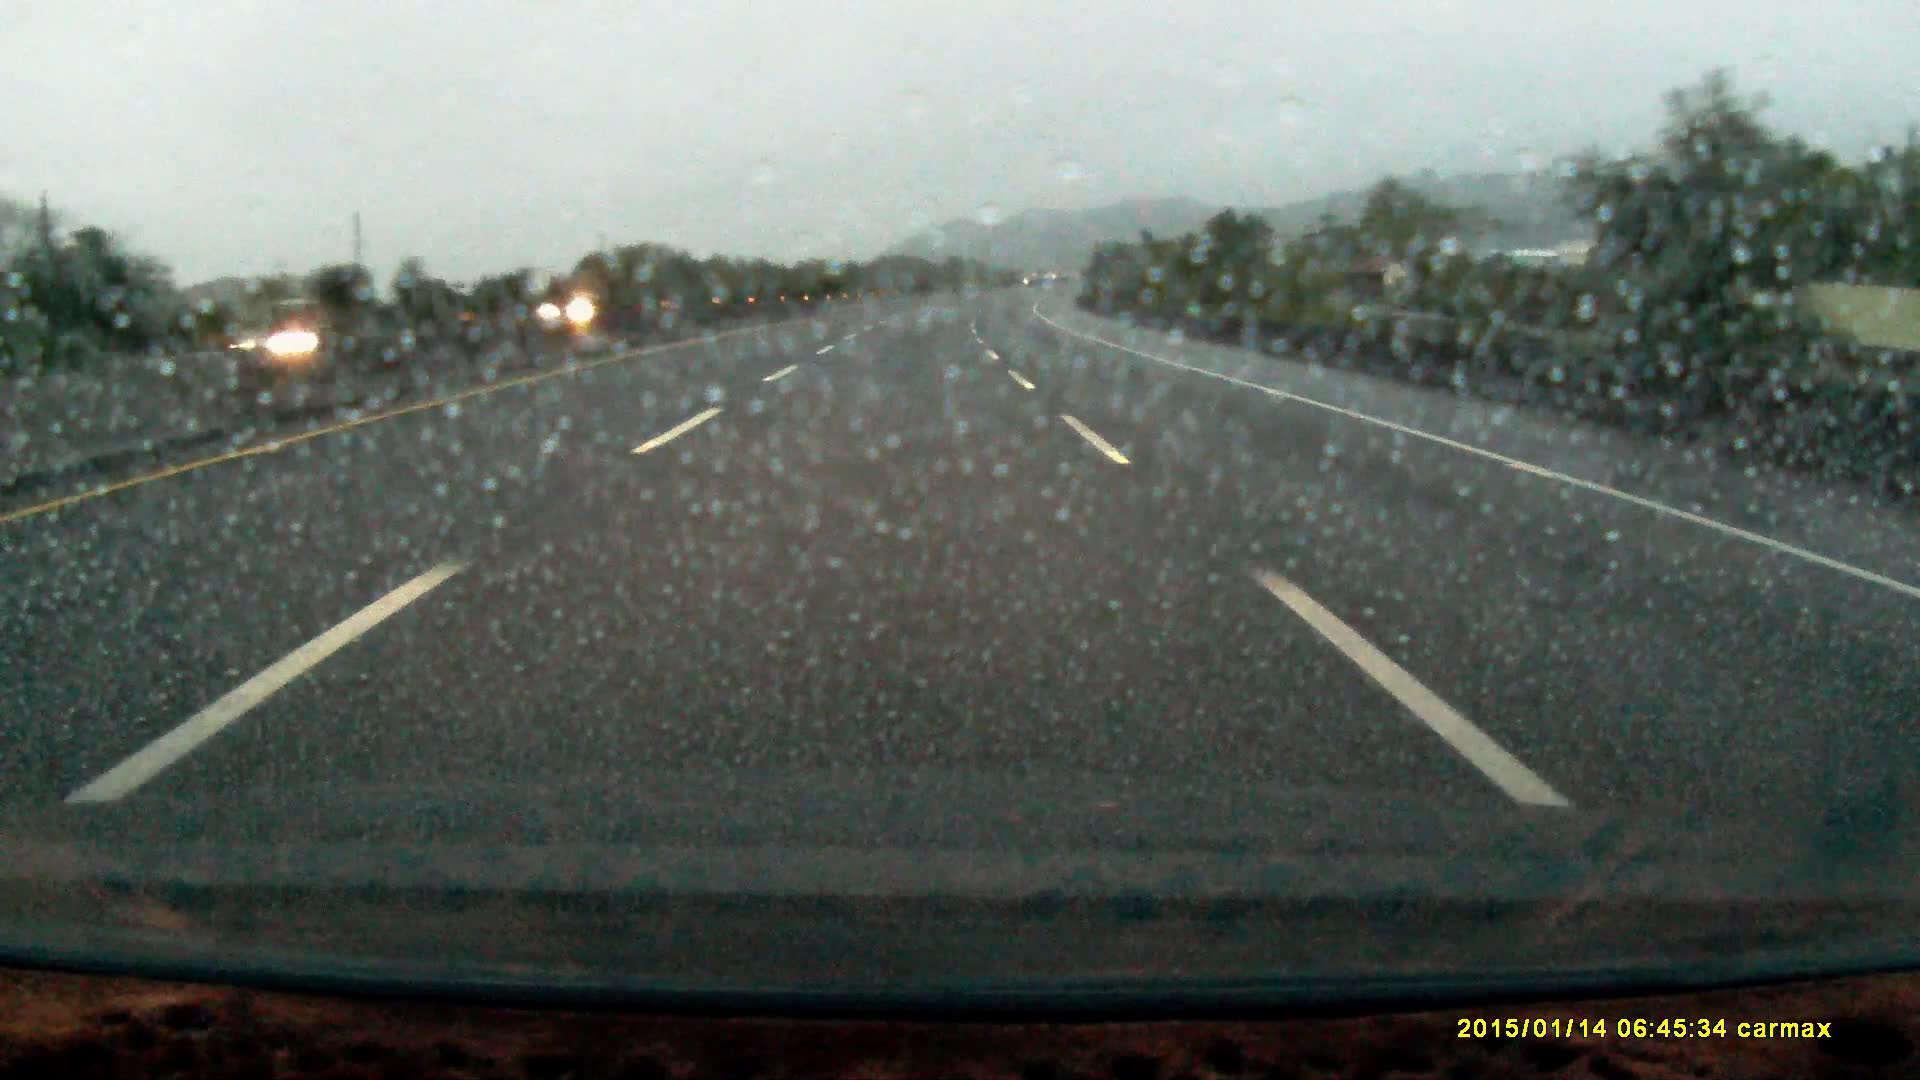vehicle: (191, 299, 388, 364), (535, 295, 616, 328)
